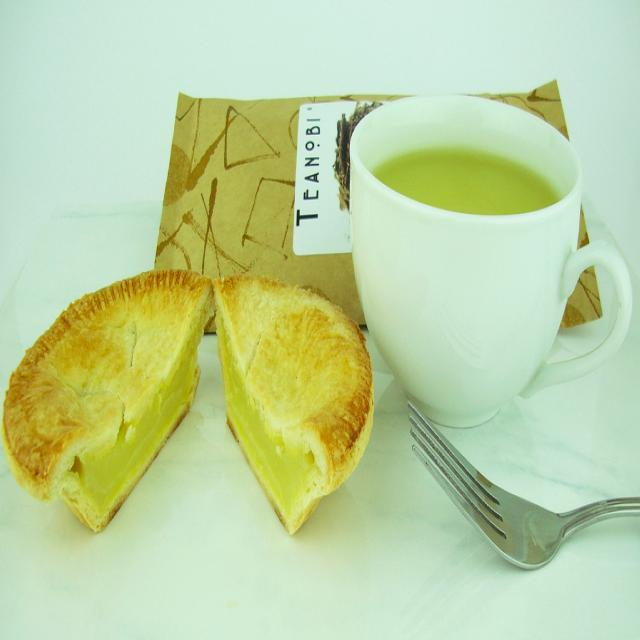Tea: (372, 152, 562, 219)
